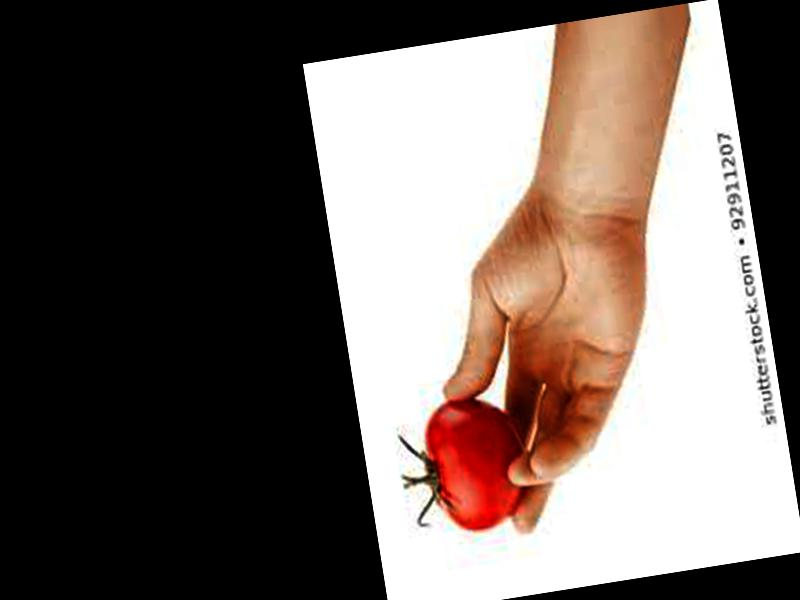Tomato: (419, 390, 536, 537)
